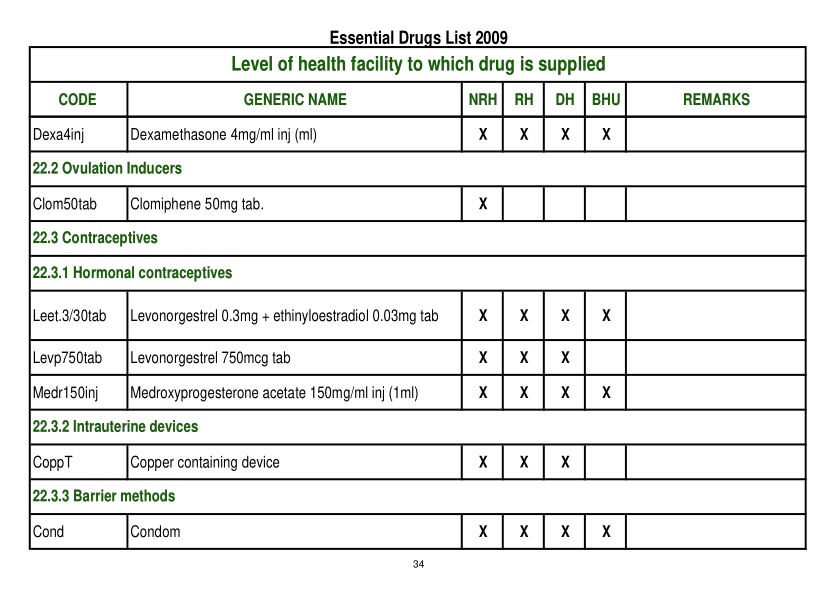merged_cells: (27, 45, 808, 551)
